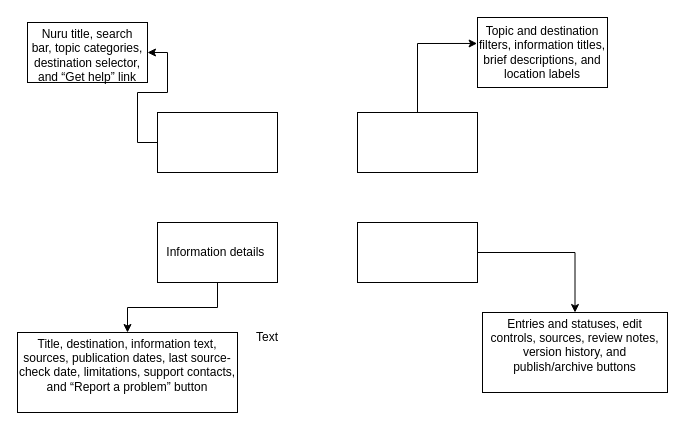
This 685x440 diagram has some shape labels left out. Here are the shapes that lost their labels. From the top down, the box of each, then its label:
(156, 112, 278, 172): Home & Search
(356, 112, 478, 172): Search results
(356, 222, 478, 282): Administrator details
